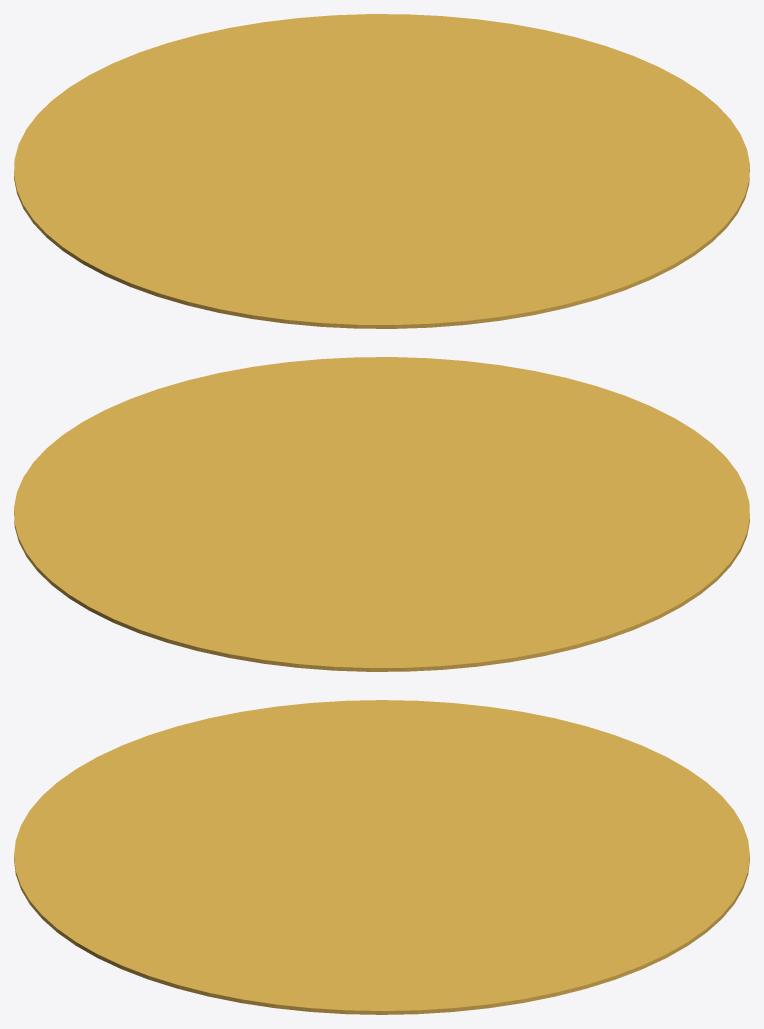
Rendered from 10_L73_PatternedThinFilmLayer.fbx.
3 views of the same model, one above another, from view 1: azimuth 30°, elevation 25°; view 2: azimuth 150°, elevation 25°; view 3: azimuth 270°, elevation 25° (orthographic).
Parts seen in each view (by area): view 1: PatternedThinFilmLayer_Part_0000; view 2: PatternedThinFilmLayer_Part_0000; view 3: PatternedThinFilmLayer_Part_0000.
Part boxes in pixels (x1,y1,x2,y2): PatternedThinFilmLayer_Part_0000: (14, 14, 749, 328); PatternedThinFilmLayer_Part_0000: (14, 357, 749, 671); PatternedThinFilmLayer_Part_0000: (14, 700, 749, 1014).
Bounding box in the file's own units: 138 × 2.5 × 138.
